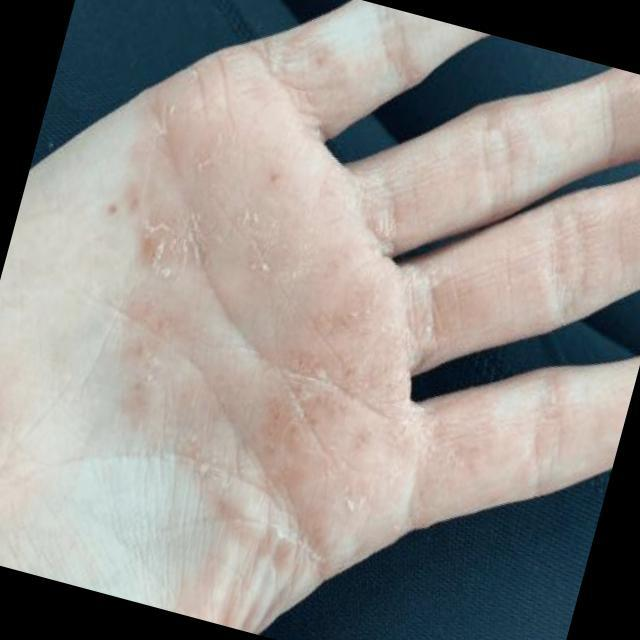Eczema: (103, 88, 469, 540)
